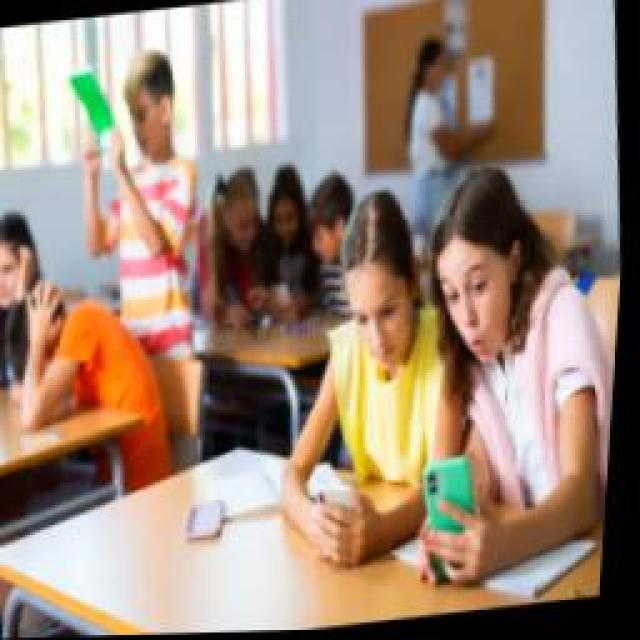phone: (398, 155, 630, 585), (257, 192, 465, 570)
